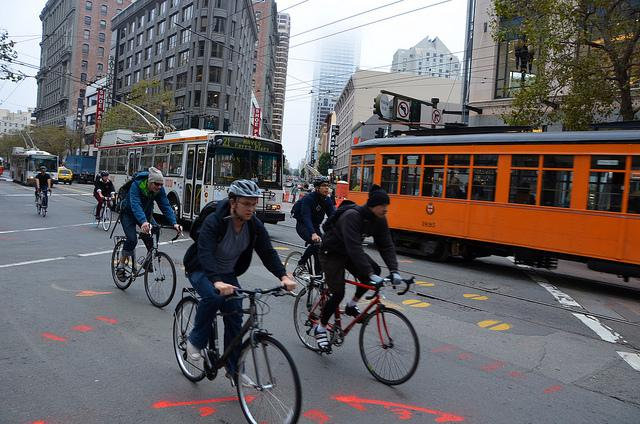Train: (347, 126, 640, 283)
